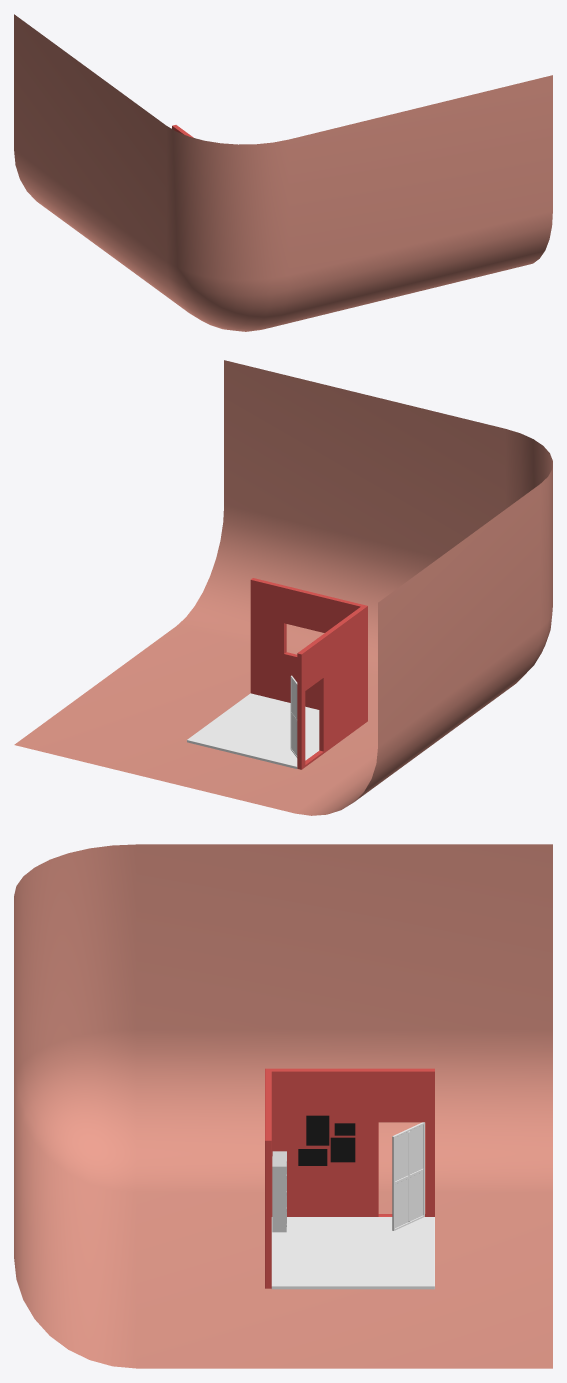
Rendered from quantum_room.glb.
The picture shows the model from 3 angles, top to bottom: view 1: azimuth 30°, elevation 25°; view 2: azimuth 150°, elevation 25°; view 3: azimuth 270°, elevation 25°; orthographic projection. The views are drawn at different scales.
Visible parts, largest first — view 1: background; view 2: background, walls, floor, tunneling; view 3: background, walls, floor, tunneling, shelf, postulate1, postulate3.
Part boxes in pixels (box(x1,y1,x2,y2)): background: box(14, 14, 552, 331); background: box(14, 360, 552, 815); walls: box(250, 578, 367, 769); floor: box(187, 693, 319, 768); tunneling: box(290, 675, 297, 757); background: box(14, 844, 552, 1368); walls: box(265, 1068, 434, 1288); floor: box(271, 1217, 434, 1289); tunneling: box(392, 1122, 424, 1230); shelf: box(272, 1151, 286, 1232); postulate1: box(306, 1115, 329, 1145); postulate3: box(330, 1137, 355, 1162).
Size of the model in its own units: 32.36 by 19.67 by 32.36.
